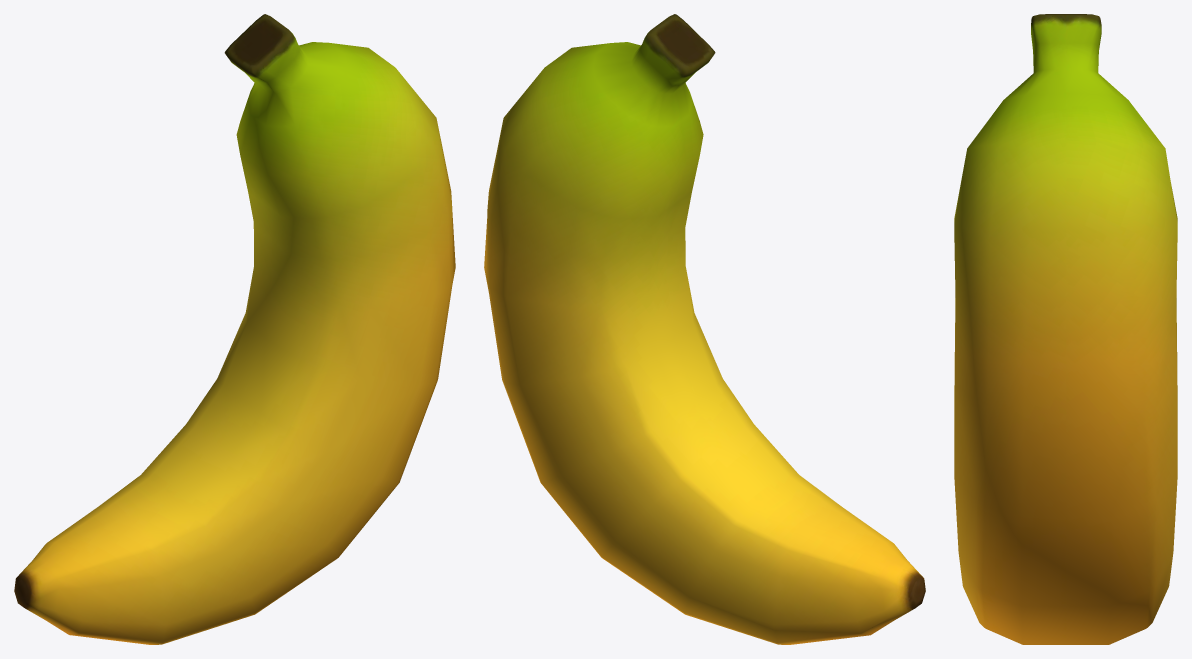
File: banana-transformed.glb
3 renders of one model, left to right at view 1: azimuth 30°, elevation 25°; view 2: azimuth 150°, elevation 25°; view 3: azimuth 270°, elevation 25°, orthographic. The views are drawn at different scales.
Parts seen in each view (by area): view 1: Banana_Banana_0; view 2: Banana_Banana_0; view 3: Banana_Banana_0.
Boxes of the visible parts, x1,y1,x2,y2 form: Banana_Banana_0: (14,14,455,644); Banana_Banana_0: (484,14,925,644); Banana_Banana_0: (954,14,1177,644).
Bounding box in the file's own units: 77.28 × 102 × 30.89.
Materials: 1 (1 with a texture image).
